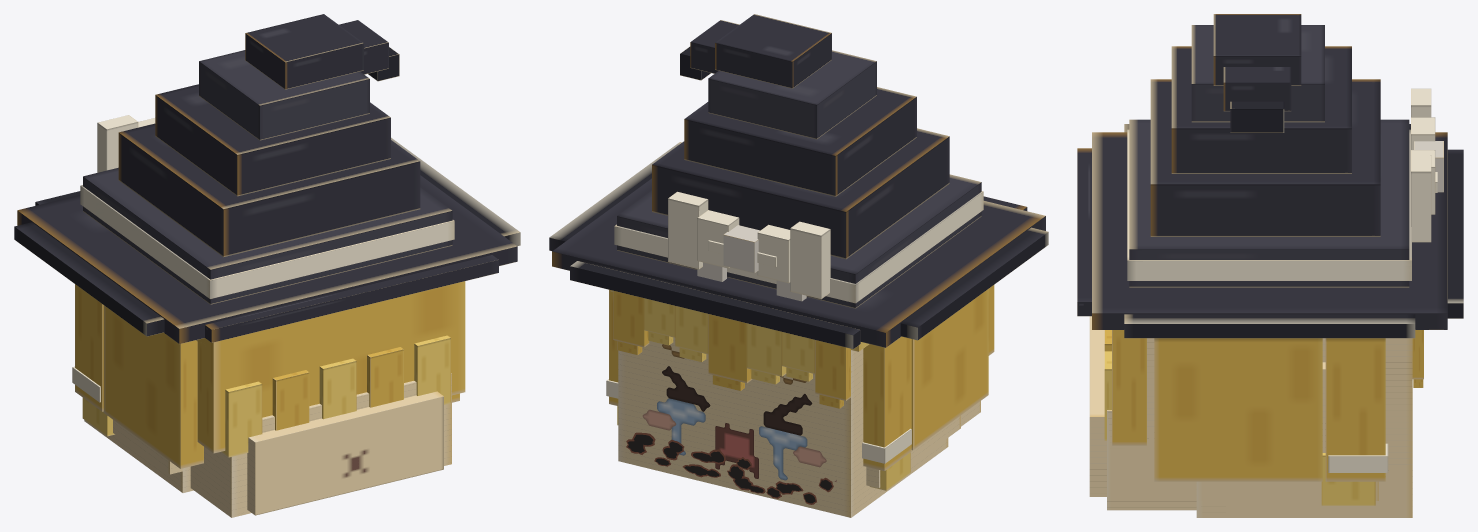
The model's file is scorch_marisa_3.obj.
3 renders of one model, left to right at view 1: azimuth 30°, elevation 25°; view 2: azimuth 150°, elevation 25°; view 3: azimuth 270°, elevation 25°, orthographic. The views are drawn at different scales.
Parts seen in each view (by area): view 1: scorch_marisa_3; view 2: scorch_marisa_3; view 3: scorch_marisa_3.
Part boxes in pixels (<box>): scorch_marisa_3: <box>14,14,520,517</box>; scorch_marisa_3: <box>549,14,1048,517</box>; scorch_marisa_3: <box>1077,14,1463,517</box>.
Size of the model in its own units: 19 by 19.34 by 15.53.
1 material, 1 textured.
